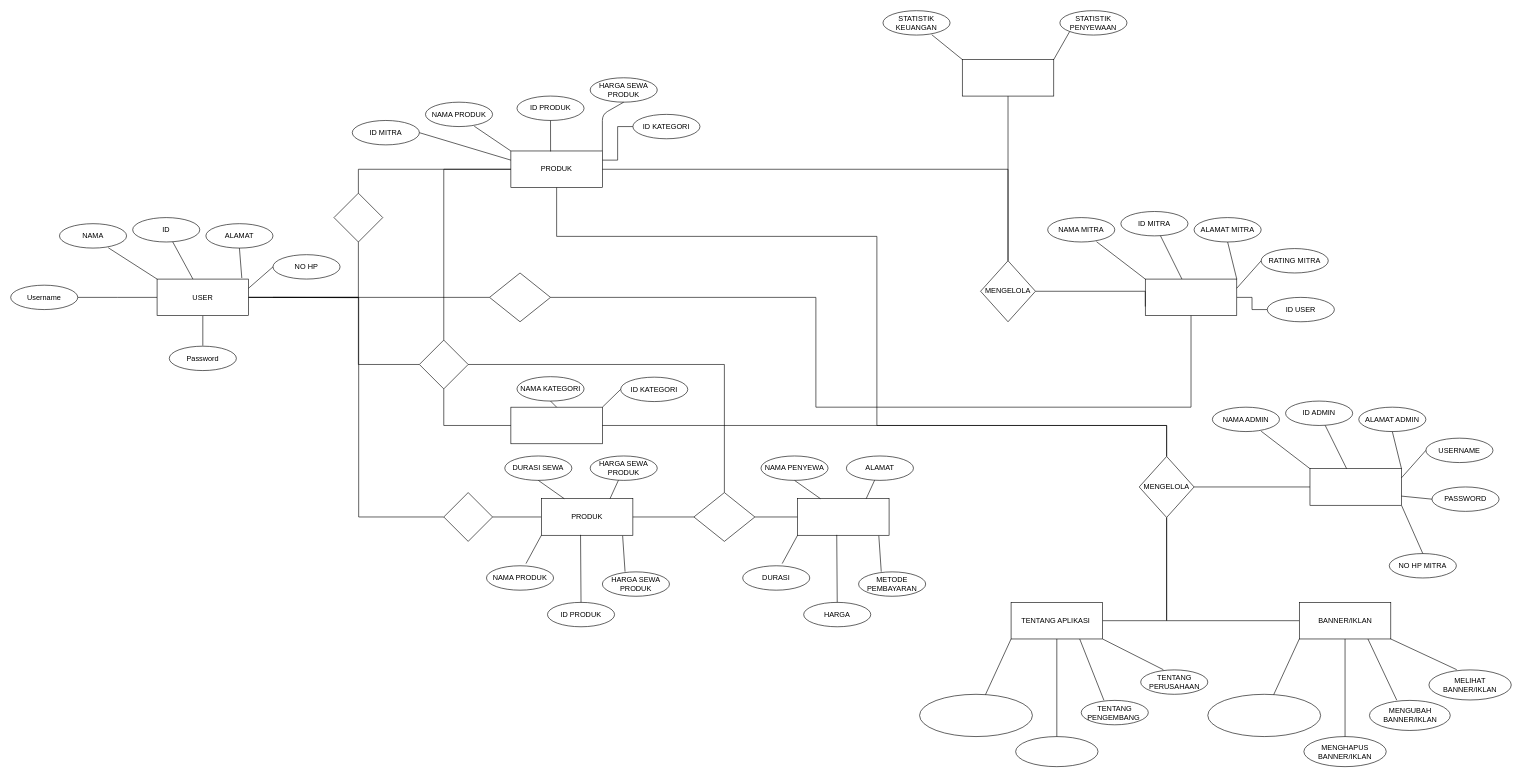
The diagram is 1522 pixels wide and 778 high, and some of its shapes have lost their labels. Each missing label, with the centre of its shape:
"ADMIN" belongs at (x=1355, y=486).
"KATEGORI" belongs at (x=556, y=425).
"KEBIJAKAN PRIVASI DAN KETENTUAN PENGGUNA" belongs at (x=975, y=715).
"LIHAT" belongs at (x=443, y=364).
"MEMBUAT BANNER/IKLAN" belongs at (x=1264, y=715).
"MENCARI" belongs at (x=358, y=217).
"MENDAFTAR" belongs at (x=520, y=297).
"MITRA" belongs at (x=1191, y=297).
"PEMBAYARAN" belongs at (x=843, y=516).
"SEWA" belongs at (x=468, y=516).
"STATISTIK KEUANGAN DAN PENYEWAAN" belongs at (x=1008, y=77).
"TRANSAKSI" belongs at (x=724, y=516).
"TUJUAN APLIKASI" belongs at (x=1056, y=751).
